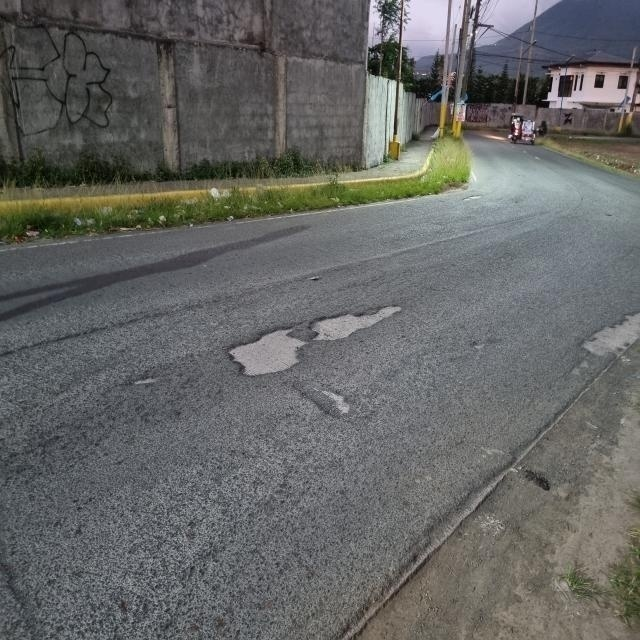pothole: (198, 262, 410, 408)
